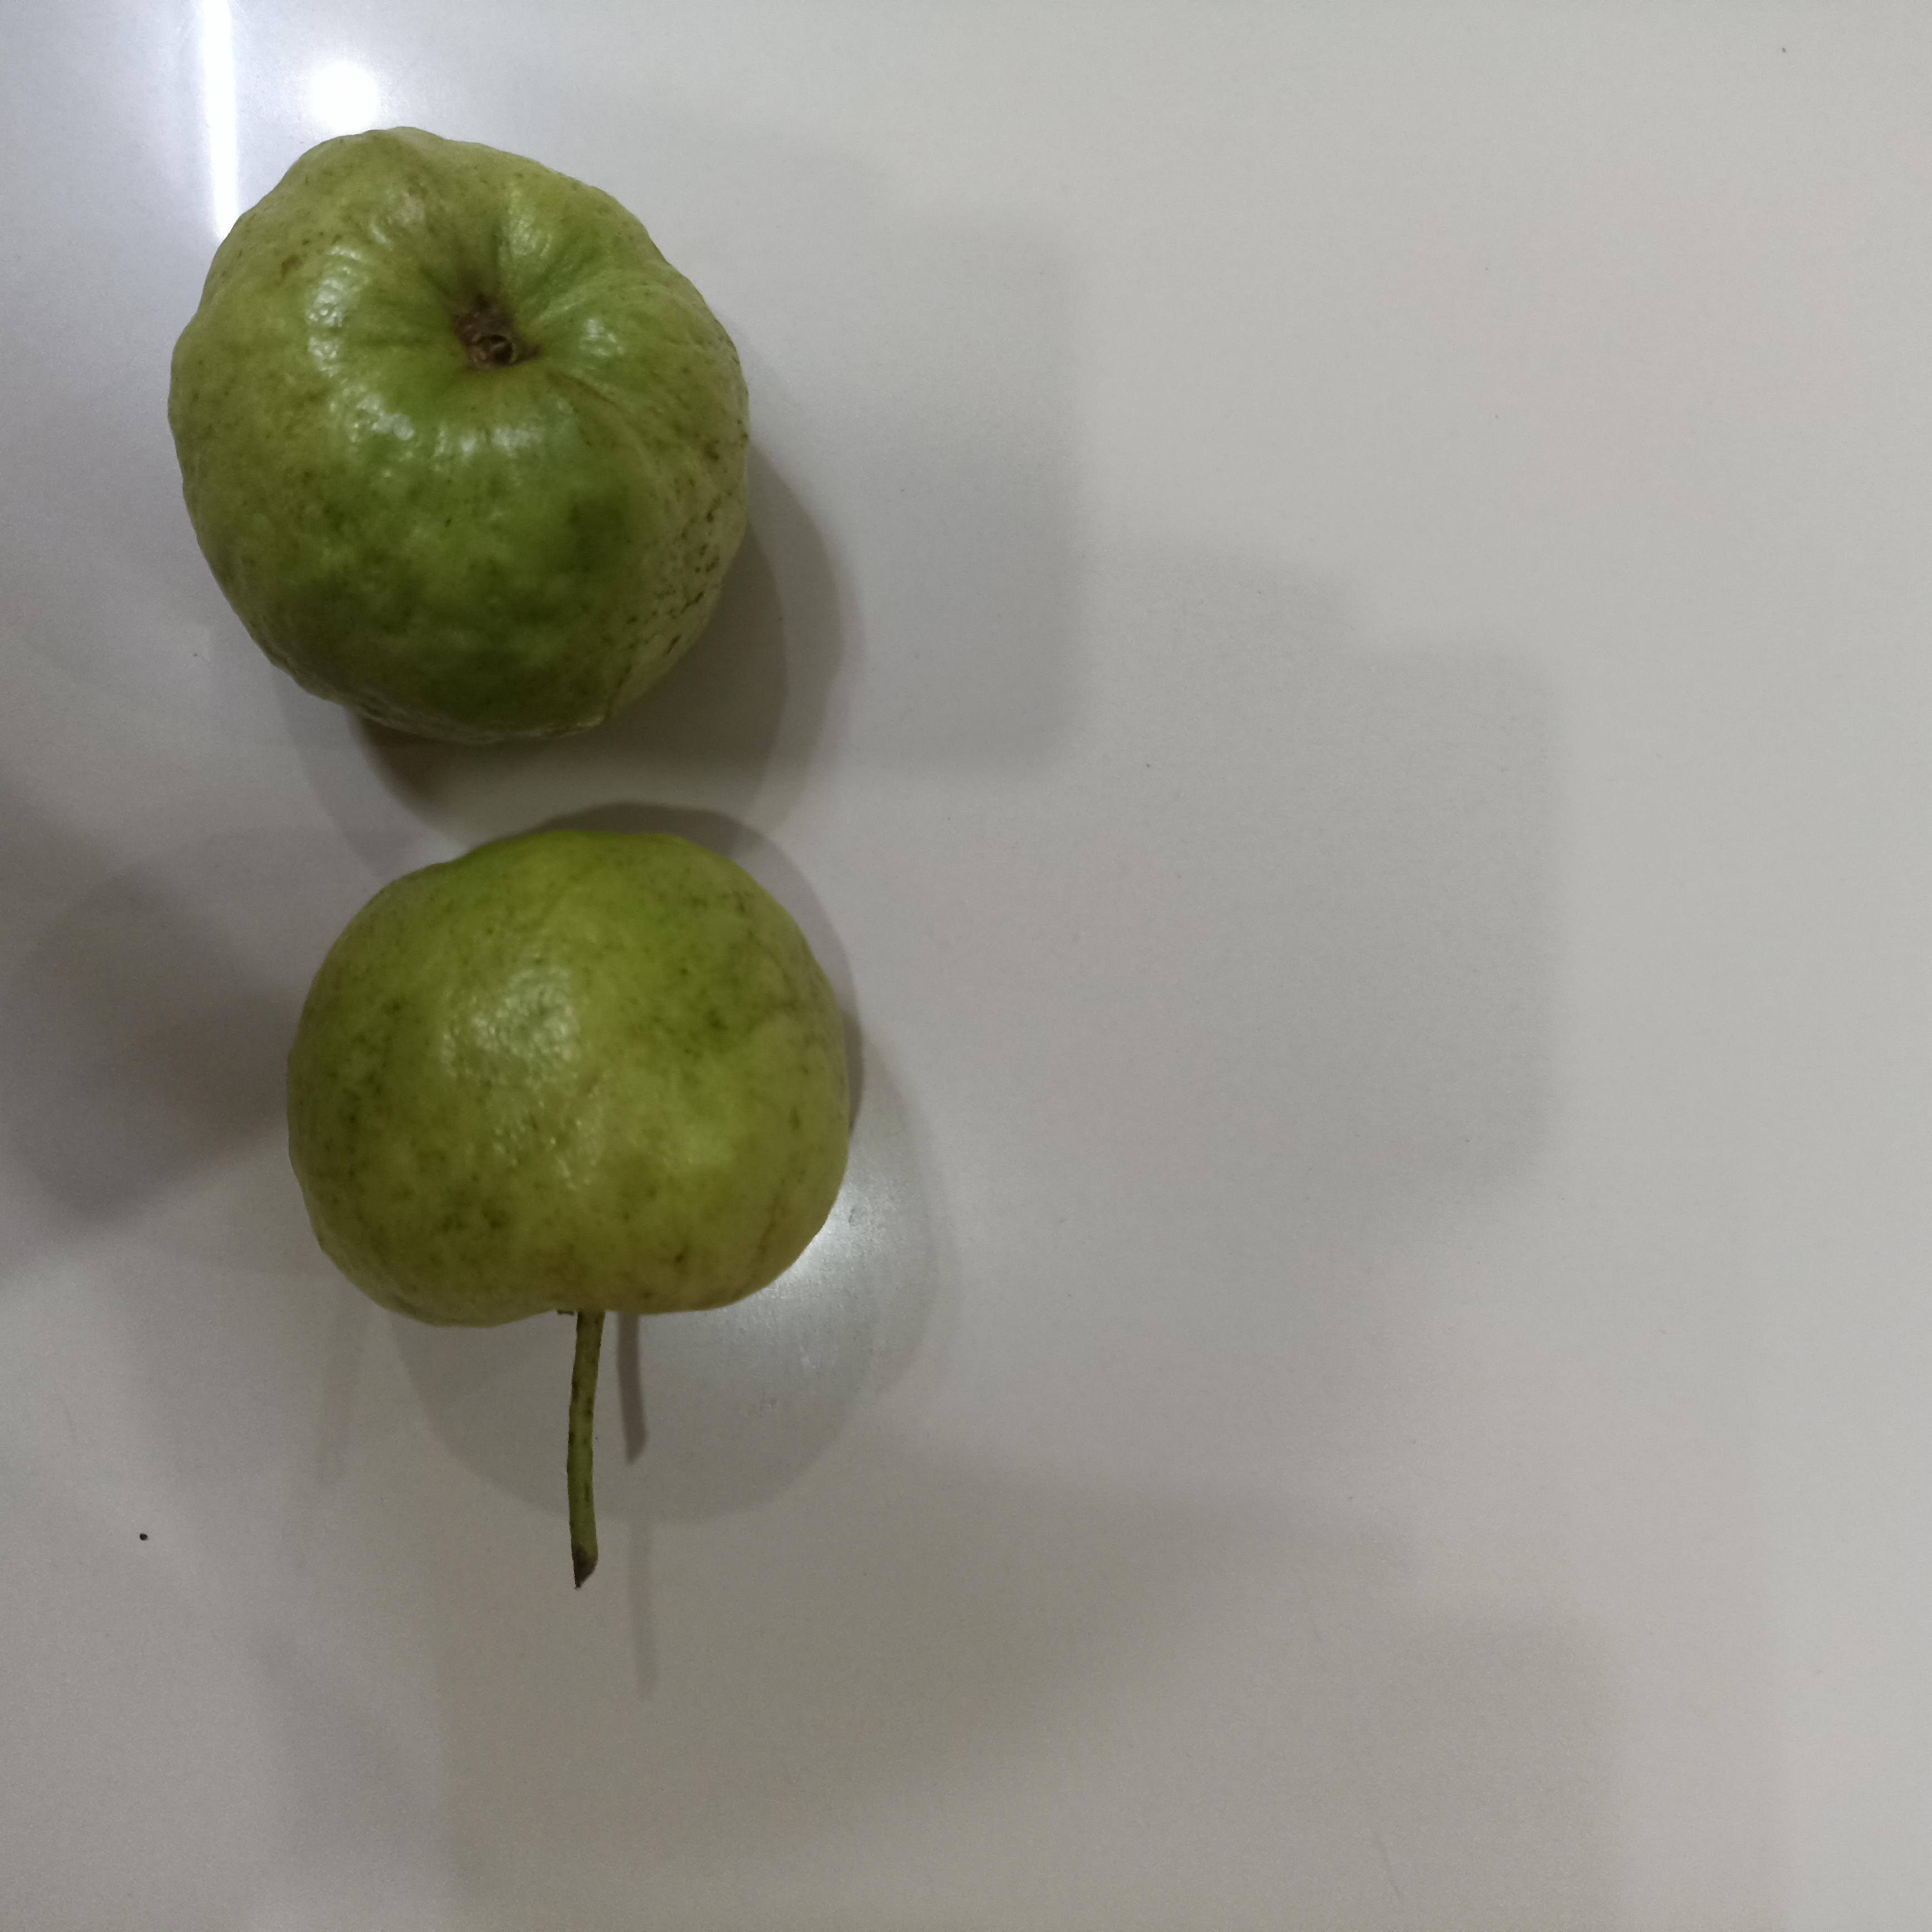Oi: (170, 129, 752, 757), (280, 827, 860, 1326)
